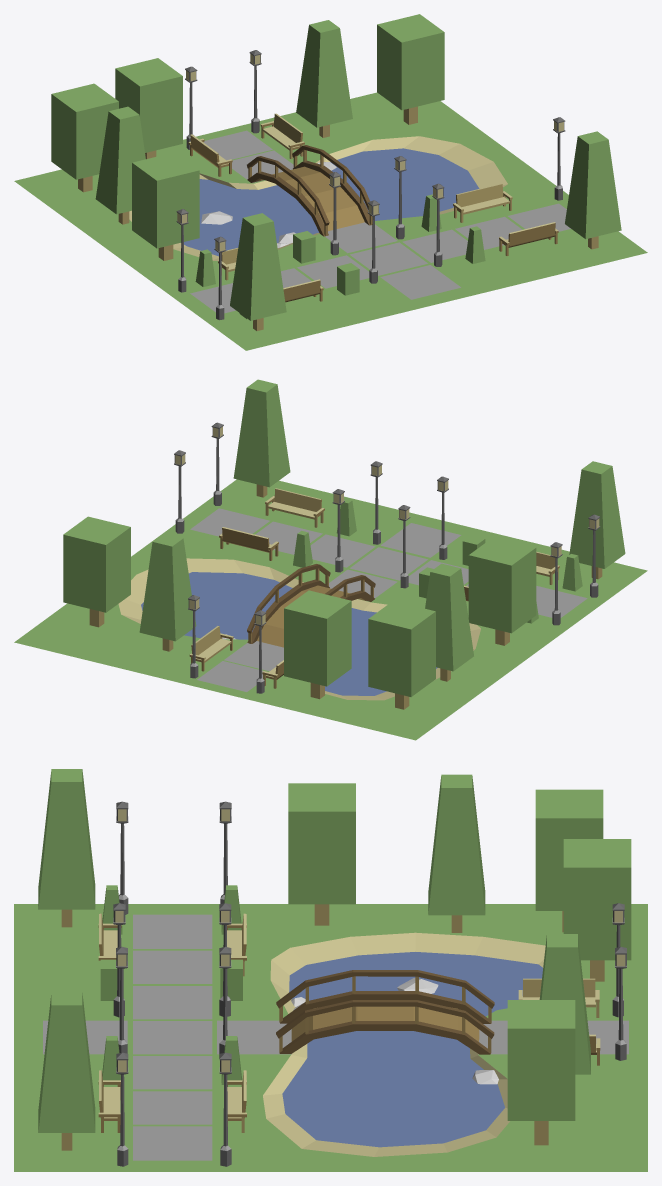
The model's file is park_010.glb.
The picture shows the model from 3 angles, top to bottom: view 1: azimuth 30°, elevation 25°; view 2: azimuth 150°, elevation 25°; view 3: azimuth 270°, elevation 25°; orthographic projection. The views are drawn at different scales.
Visible parts, largest first — view 1: park_010; view 2: park_010; view 3: park_010.
Part boxes in pixels (x1,y1,x2,y2): park_010: (14,14,647,350); park_010: (14,379,647,740); park_010: (14,769,647,1171).
Bounding box in the file's own units: 16 × 5.51 × 16.
1 material, 1 textured.
